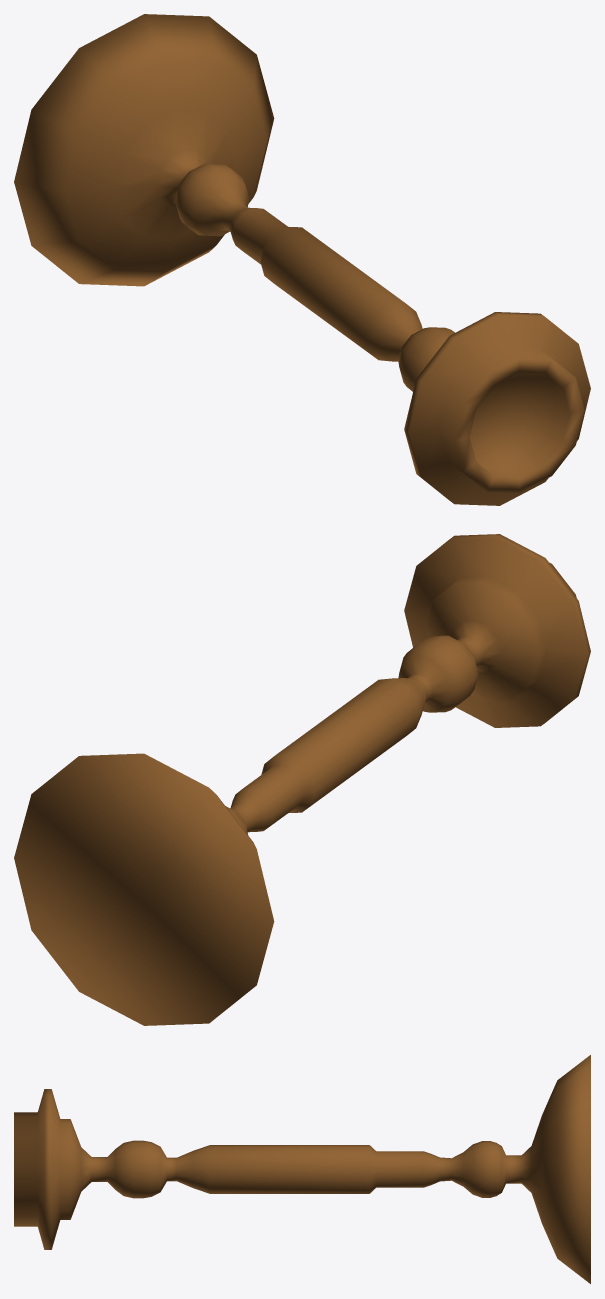
3 views of the same model, one above another, from view 1: azimuth 30°, elevation 25°; view 2: azimuth 150°, elevation 25°; view 3: azimuth 270°, elevation 25° (orthographic). The views are drawn at different scales.
Bounding box in the file's own units: 0.2599 × 0.2599 × 0.6494.
